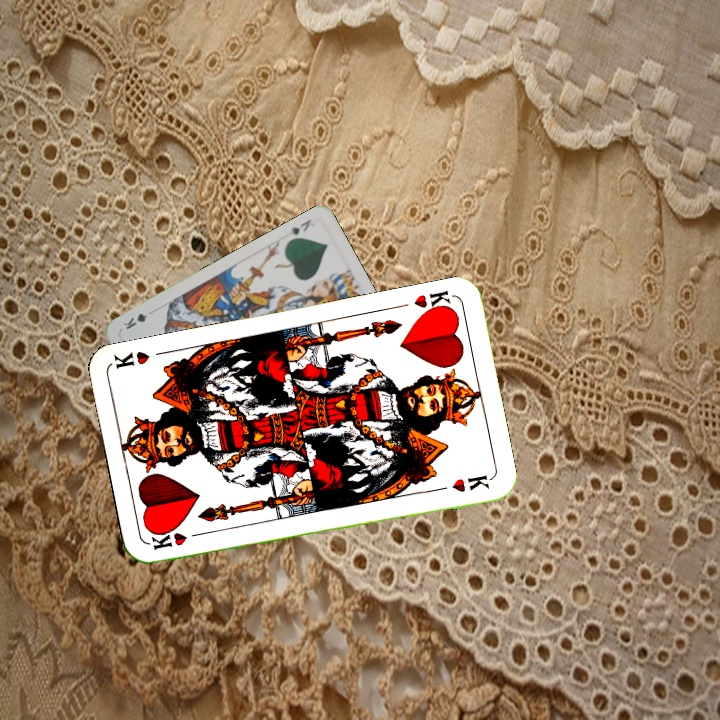GK: (285, 215, 314, 238)
HK: (410, 286, 455, 318), (147, 528, 206, 552)
